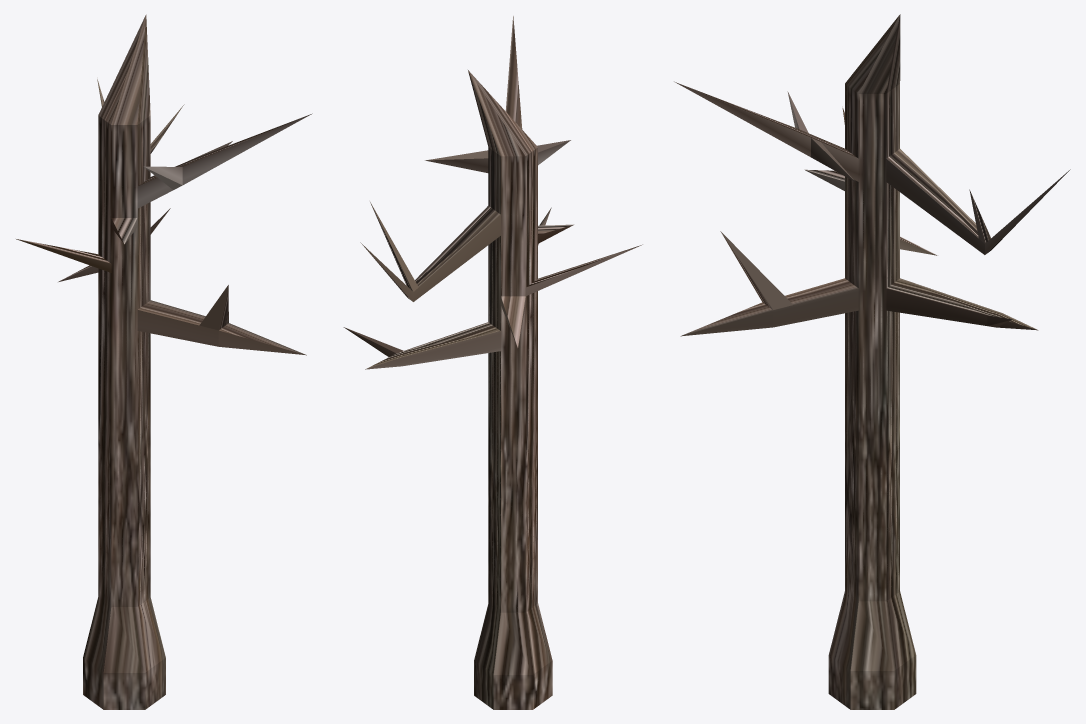
File: TreeCalvo.fbx
The picture shows the model from 3 angles, left to right: view 1: azimuth 30°, elevation 25°; view 2: azimuth 150°, elevation 25°; view 3: azimuth 270°, elevation 25°; orthographic projection. The views are drawn at different scales.
Parts seen in each view (by area): view 1: Cylinder.004; view 2: Cylinder.004; view 3: Cylinder.004.
Part boxes in pixels (x1,y1,x2,y2): Cylinder.004: (16,14,312,709); Cylinder.004: (343,16,642,709); Cylinder.004: (674,14,1070,709).
Bounding box in the file's own units: 185 × 491 × 254.
